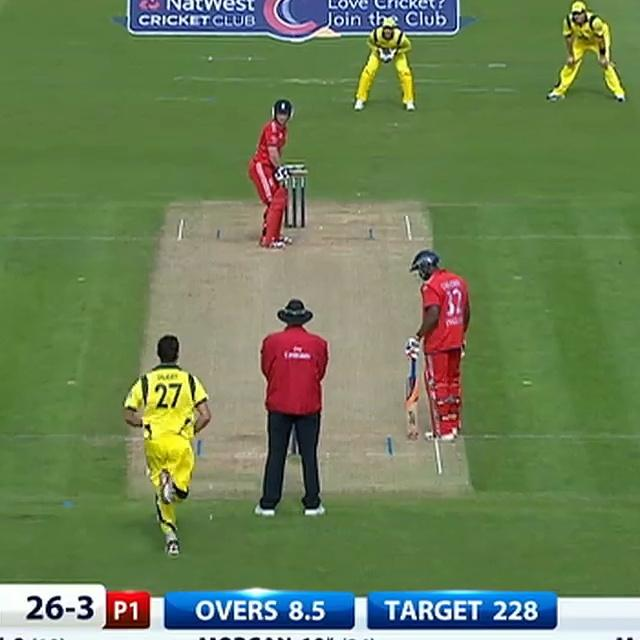umpire: (245, 289, 341, 521)
